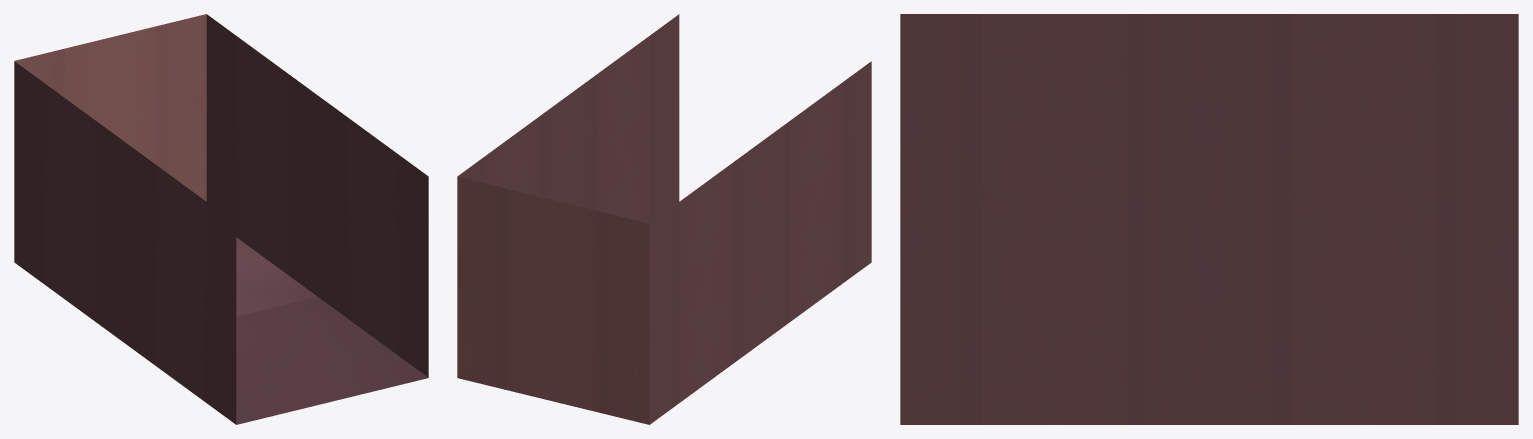
File: SM_Baseblock1x1Level2.fbx
The picture shows the model from 3 angles, left to right: view 1: azimuth 30°, elevation 25°; view 2: azimuth 150°, elevation 25°; view 3: azimuth 270°, elevation 25°; orthographic projection. The views are drawn at different scales.
Visible parts, largest first — view 1: Base_FullF.003; view 2: Base_FullF.003; view 3: Base_FullF.003.
Part boxes in pixels (x1,y1,x2,y2): Base_FullF.003: [14, 14, 428, 424]; Base_FullF.003: [457, 14, 871, 424]; Base_FullF.003: [900, 14, 1518, 424].
Bounding box in the file's own units: 100 × 200 × 100.
